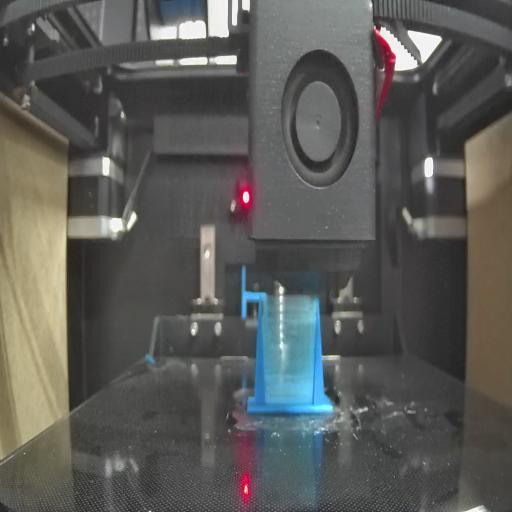stringing: (262, 296, 316, 404)
